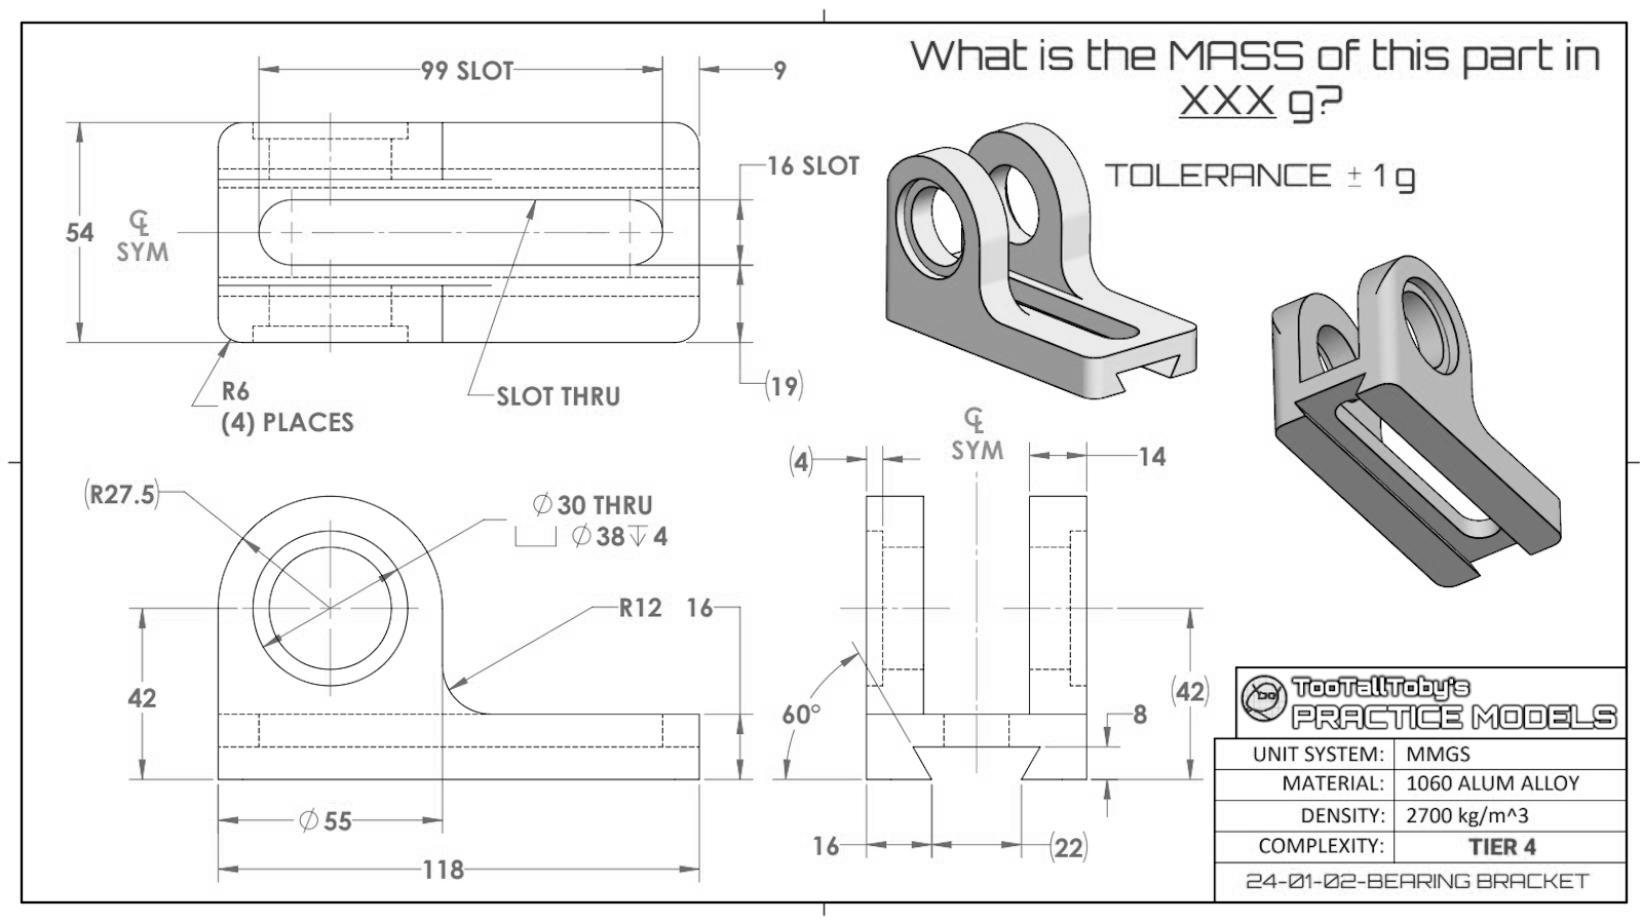-: (1345, 159, 1363, 194)
0: (795, 701, 811, 725), (571, 494, 587, 515), (1428, 803, 1442, 826), (1441, 807, 1454, 824)
1: (1370, 160, 1391, 194), (810, 830, 825, 858), (765, 152, 778, 177), (769, 374, 783, 398), (436, 858, 448, 879), (1139, 444, 1150, 467), (424, 858, 434, 879), (635, 595, 645, 616), (688, 596, 697, 618)
1060AlumAlloy: (1406, 773, 1581, 791)
2: (1189, 678, 1206, 702), (647, 595, 663, 619), (1053, 835, 1069, 859), (1068, 834, 1084, 858), (104, 482, 119, 506), (142, 687, 158, 708), (1405, 805, 1417, 824)
3: (553, 494, 571, 515), (595, 524, 610, 547)
4: (230, 410, 247, 436), (793, 448, 809, 473), (1150, 444, 1167, 467), (79, 221, 95, 243), (1175, 678, 1189, 702), (126, 686, 142, 708), (653, 525, 668, 547)
5: (141, 481, 157, 505), (65, 221, 81, 243), (338, 808, 353, 830), (323, 808, 337, 830)
6: (779, 153, 795, 178), (699, 596, 716, 618), (826, 834, 839, 856), (783, 701, 795, 725), (237, 380, 249, 401)
7: (118, 480, 134, 507), (1417, 803, 1430, 825)
8: (448, 856, 465, 880), (1133, 702, 1148, 725), (610, 524, 625, 547)
9: (773, 56, 790, 85), (783, 374, 799, 398), (420, 60, 435, 81), (435, 60, 449, 81)
Coma: (131, 499, 142, 507)
Degrees: (811, 701, 823, 716)
Density: (1293, 805, 1389, 824)
Depth: (626, 522, 651, 551)
Diameter: (295, 805, 320, 836), (571, 523, 594, 552), (531, 491, 553, 517)
MMGS: (1402, 744, 1473, 762)
Material: (1277, 771, 1385, 792)
Places: (260, 408, 358, 435)
Radius: (88, 481, 105, 506), (222, 380, 235, 401), (620, 595, 633, 616)
SYM: (116, 240, 173, 263), (947, 438, 1005, 461)
Slot: (491, 383, 556, 407), (455, 59, 515, 82), (802, 153, 862, 177)
Symmetry: (130, 208, 149, 237), (964, 406, 983, 433)
Thru: (558, 383, 629, 407), (589, 494, 656, 515)
UnitSystem: (1251, 743, 1385, 764)
X: (1176, 81, 1212, 116), (1210, 80, 1244, 116), (1242, 83, 1277, 116)
grams: (1287, 88, 1314, 127), (1393, 166, 1417, 196)
